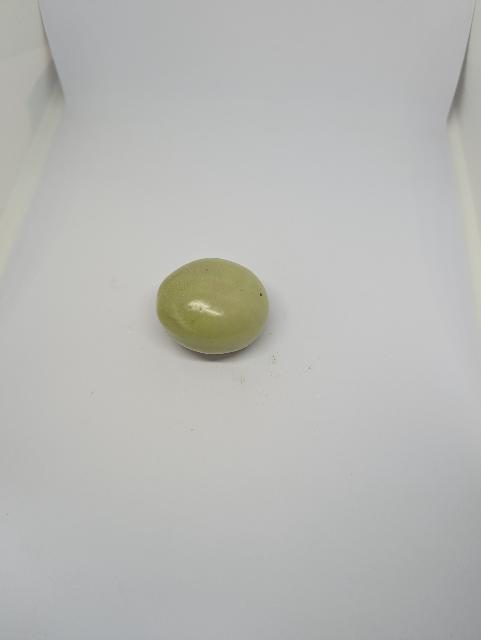green: (153, 256, 274, 359)
